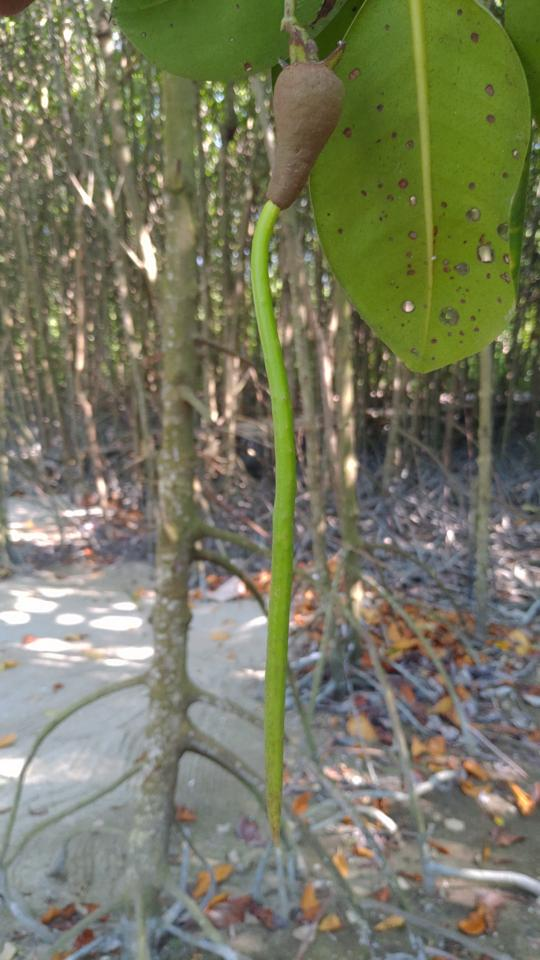mentah: (234, 37, 357, 855)
